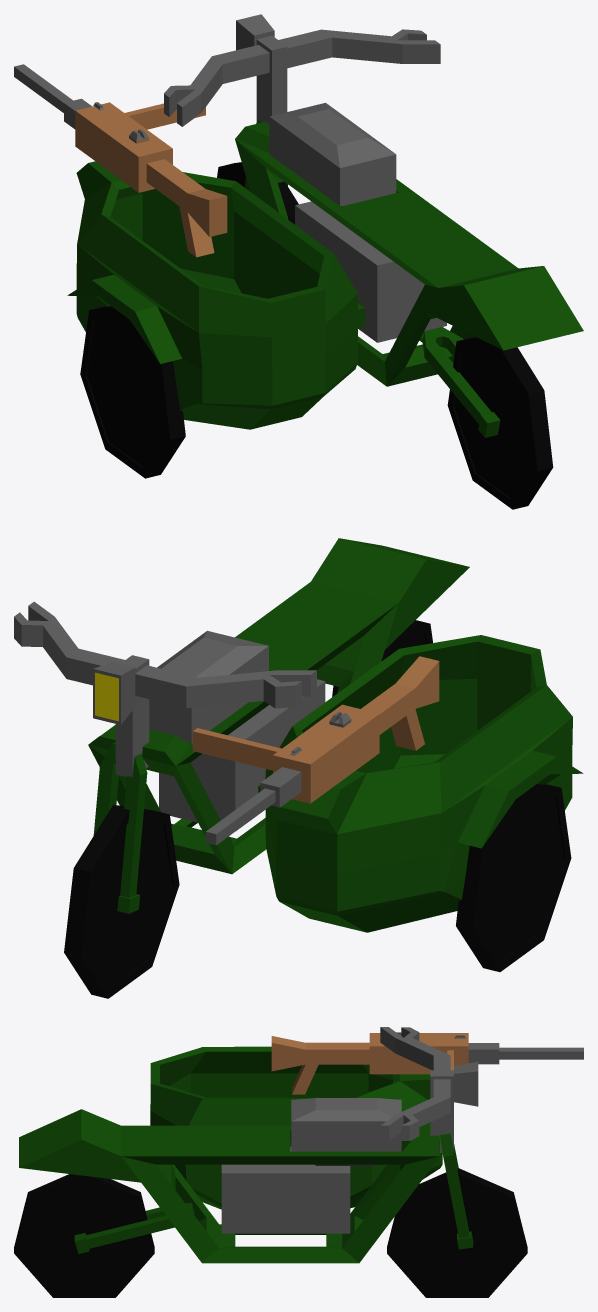
Rendered from default_bike.glb.
3 views of the same model, one above another, from view 1: azimuth 30°, elevation 25°; view 2: azimuth 150°, elevation 25°; view 3: azimuth 270°, elevation 25° (orthographic). The views are drawn at different scales.
Parts seen in each view (by area): view 1: Cylinder.003, Heave Machine Gun.005; view 2: Cylinder.003, Heave Machine Gun.005; view 3: Cylinder.003, Heave Machine Gun.005.
Boxes of the visible parts, bbox=[...] form: Cylinder.003: bbox=[67, 14, 583, 509]; Heave Machine Gun.005: bbox=[14, 64, 227, 257]; Cylinder.003: bbox=[14, 538, 583, 998]; Heave Machine Gun.005: bbox=[192, 656, 439, 845]; Cylinder.003: bbox=[14, 1027, 527, 1297]; Heave Machine Gun.005: bbox=[271, 1032, 583, 1094].
Size of the model in its own units: 168 by 120 by 271.
